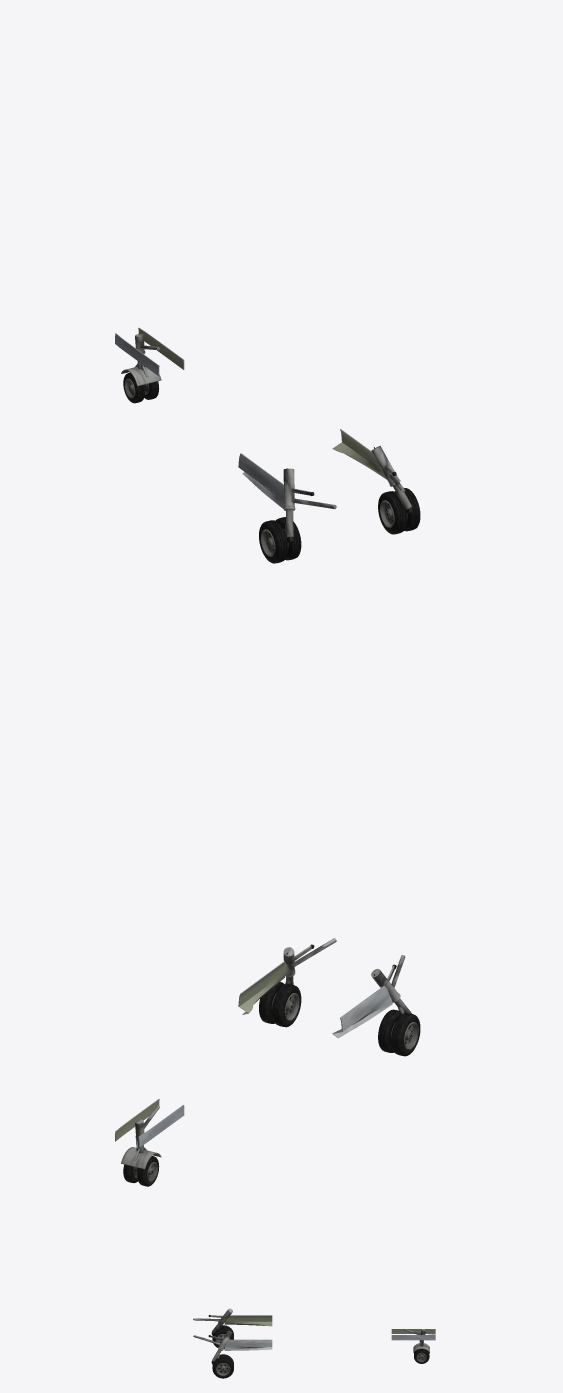
Rendered from su24_gear.glb.
3 renders of one model, top to bottom at view 1: azimuth 30°, elevation 25°; view 2: azimuth 150°, elevation 25°; view 3: azimuth 270°, elevation 25°, orthographic. The views are drawn at different scales.
Parts seen in each view (by area): view 1: gear_m_l, gear_m_r, gear_n, door_m_l_g, door_m_r_g; view 2: gear_m_l, gear_m_r, gear_n, door_m_l_g, door_m_r_g; view 3: gear_m_r, door_m_r_g, gear_m_l, door_m_l_g, gear_n, door_n_r_g.
Part boxes in pixels (x1,y1,x2,y2): gear_m_l: (259,468,336,563); gear_m_r: (371,445,420,534); gear_n: (121,334,161,403); door_m_l_g: (238,453,284,508); door_m_r_g: (332,429,386,479); gear_m_l: (371,955,420,1056); gear_m_r: (259,938,336,1027); gear_n: (121,1105,161,1186); door_m_l_g: (332,986,392,1038); door_m_r_g: (238,961,286,1014); gear_m_r: (193,1330,233,1378); door_m_r_g: (224,1339,272,1350); gear_m_l: (193,1308,233,1349); door_m_l_g: (224,1315,272,1326); gear_n: (404,1329,429,1363); door_n_r_g: (391,1334,435,1340).
Size of the model in its own units: 3.52 by 6.83 by 22.63.
1 material, 1 textured.
